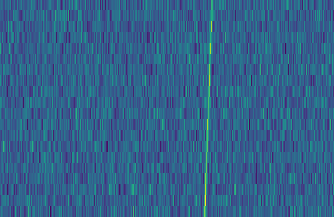signal: (200, 0, 217, 217)
